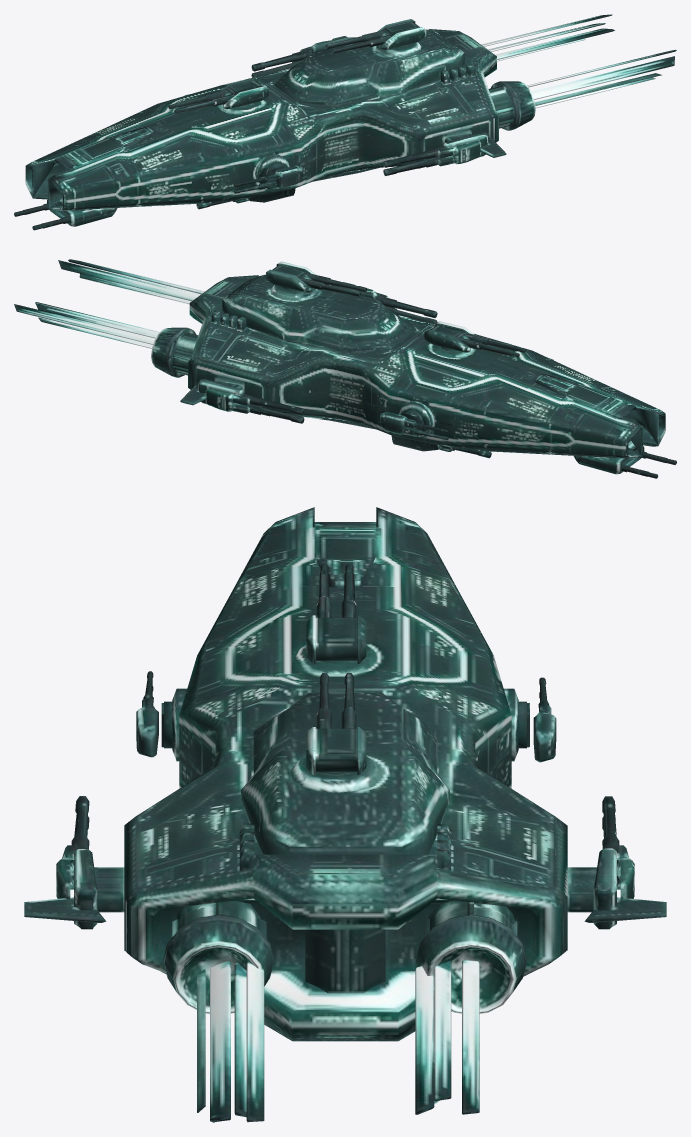
Rendered from croiseur_tripo.glb.
3 renders of one model, top to bottom at view 1: azimuth 30°, elevation 25°; view 2: azimuth 150°, elevation 25°; view 3: azimuth 270°, elevation 25°, orthographic. The views are drawn at different scales.
Parts seen in each view (by area): view 1: tripo_node_b7aff053-5b20-474d-847b-91d4f74f46a7; view 2: tripo_node_b7aff053-5b20-474d-847b-91d4f74f46a7; view 3: tripo_node_b7aff053-5b20-474d-847b-91d4f74f46a7.
Part boxes in pixels (box(x1,y1,x2,y2)): tripo_node_b7aff053-5b20-474d-847b-91d4f74f46a7: box(14, 14, 676, 230); tripo_node_b7aff053-5b20-474d-847b-91d4f74f46a7: box(14, 259, 676, 478); tripo_node_b7aff053-5b20-474d-847b-91d4f74f46a7: box(24, 507, 666, 1122).
Bounding box in the file's own units: 0.9995 × 0.1987 × 0.4429.
1 material, 1 textured.
